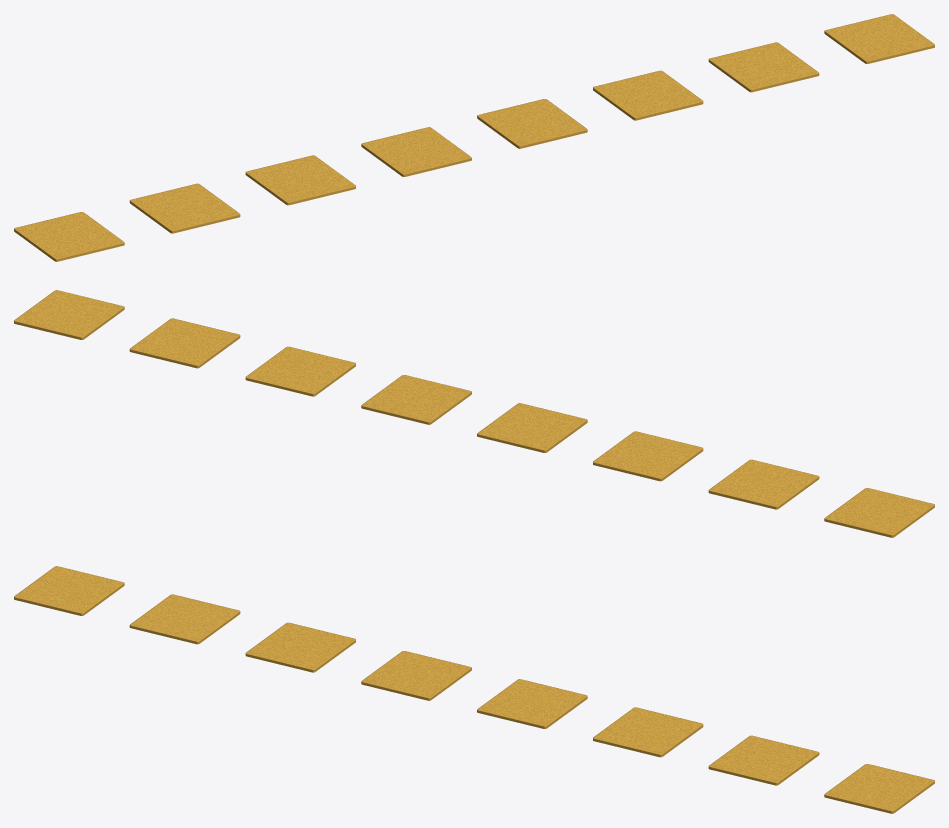
Rendered from handoff-line.glb.
The picture shows the model from 3 angles, top to bottom: view 1: azimuth 30°, elevation 25°; view 2: azimuth 150°, elevation 25°; view 3: azimuth 330°, elevation 25°; orthographic projection.
Visible parts, largest first — view 1: stripe (×8); view 2: stripe (×8); view 3: stripe (×8).
Boxes of the visible parts, box(x1,y1,x2,y2) form: stripe (×8): box(14, 14, 934, 261); stripe (×8): box(14, 290, 934, 537); stripe (×8): box(14, 566, 934, 813).
Size of the model in its own units: 1.43 by 0.004 by 0.12.
Materials: 1 (1 with a texture image).
